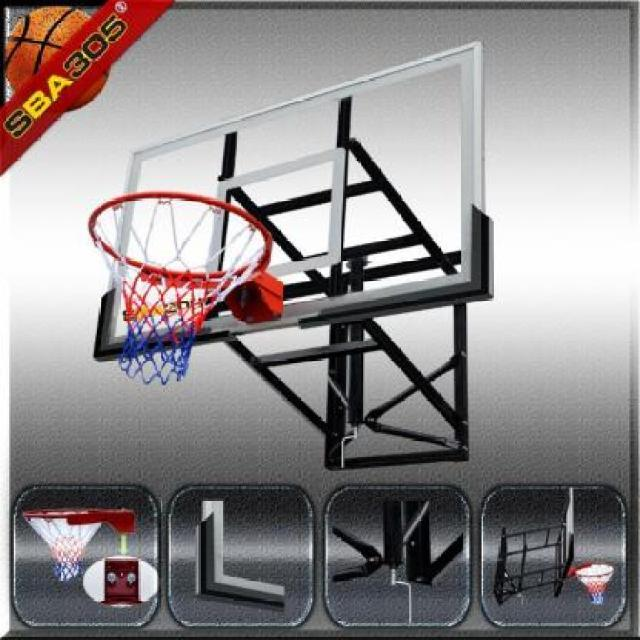rim: (88, 192, 270, 384)
